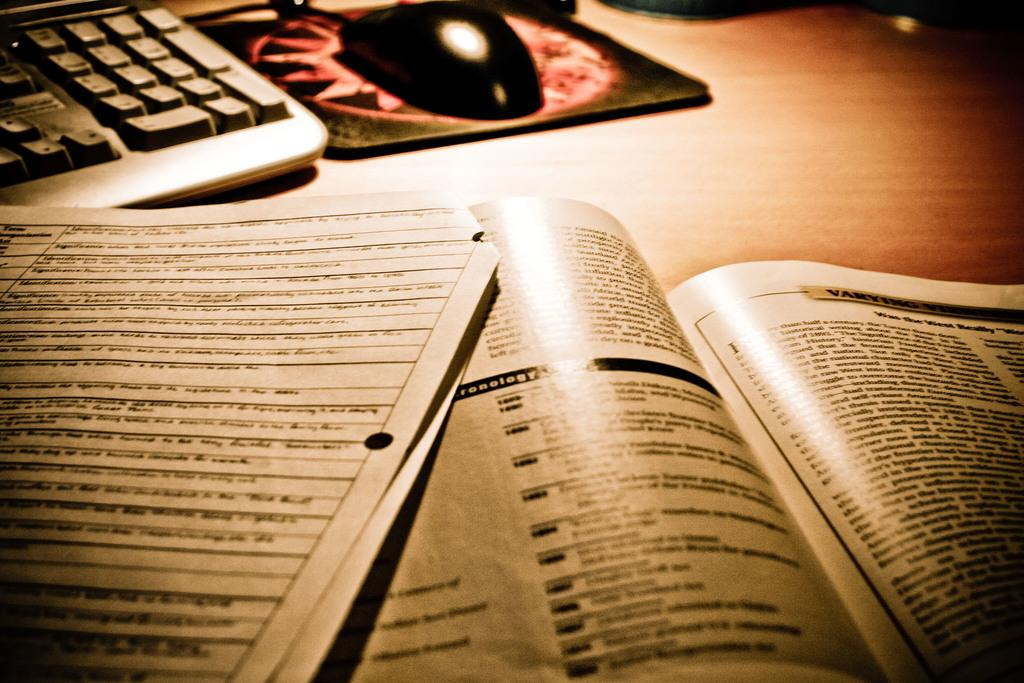Computer-mouse: (339, 0, 543, 117)
